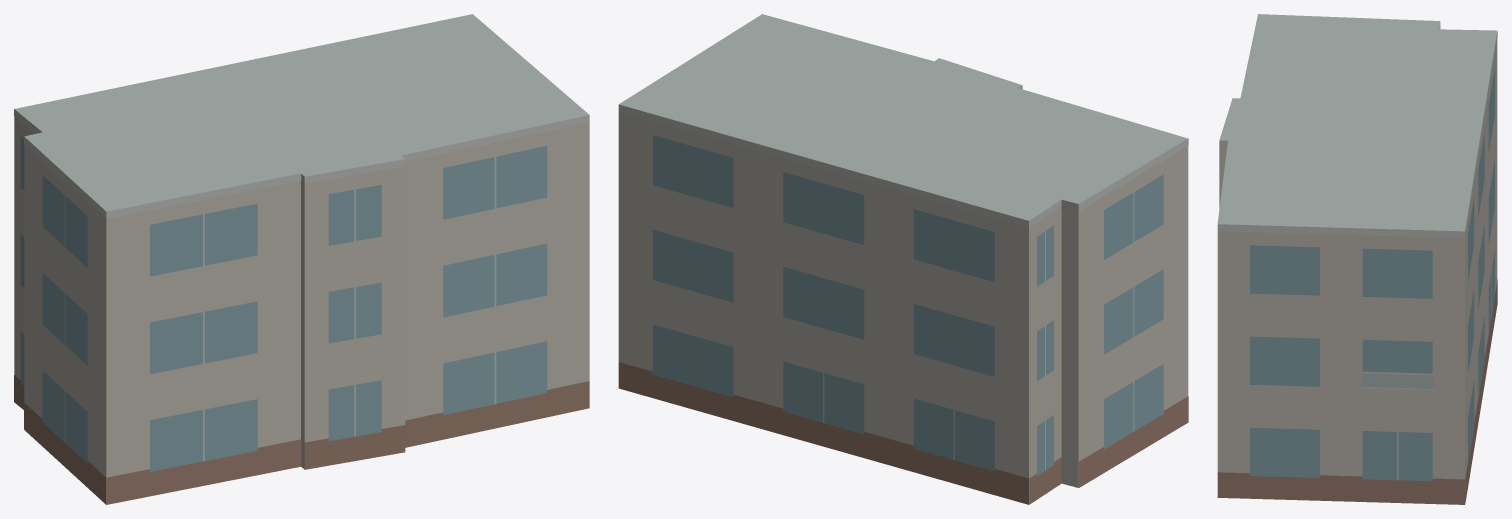
Rendered from survey-upis-32959706.glb.
3 renders of one model, left to right at view 1: azimuth 30°, elevation 25°; view 2: azimuth 150°, elevation 25°; view 3: azimuth 270°, elevation 25°, orthographic. The views are drawn at different scales.
Parts seen in each view (by area): view 1: survey-upis-32959706.tmp; view 2: survey-upis-32959706.tmp; view 3: survey-upis-32959706.tmp.
Boxes of the visible parts, left/top/right/bottom form: survey-upis-32959706.tmp: left=14, top=14, right=589, bottom=504; survey-upis-32959706.tmp: left=618, top=14, right=1188, bottom=504; survey-upis-32959706.tmp: left=1217, top=14, right=1497, bottom=504.
Size of the model in its own units: 16.54 by 9.7 by 9.01.
